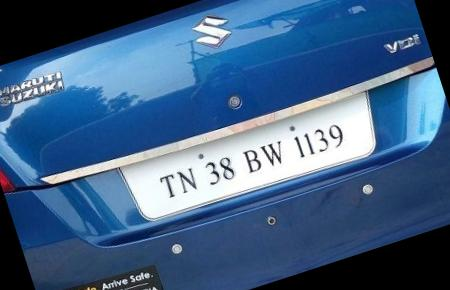plate: (107, 66, 403, 243)
